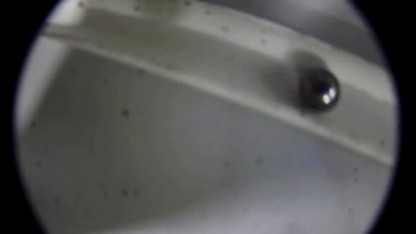gangzhu: (295, 67, 343, 113)
